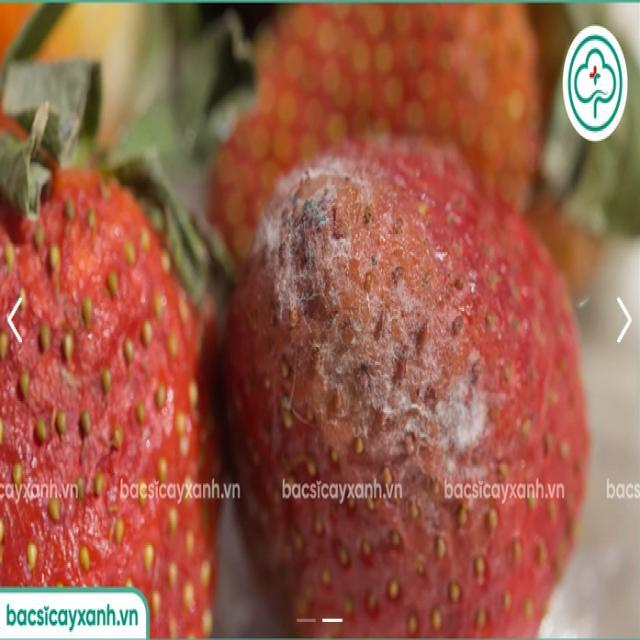Moho gris: (222, 146, 614, 638)
